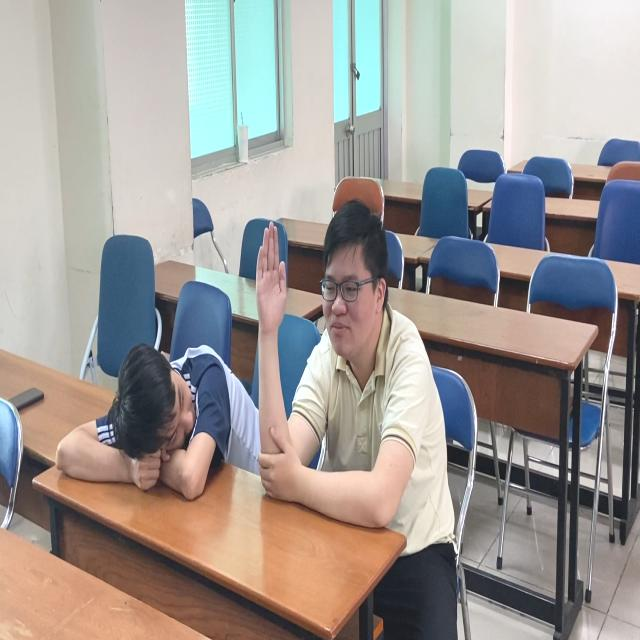raise_hand: (253, 200, 462, 553)
sleep: (50, 332, 257, 508)
